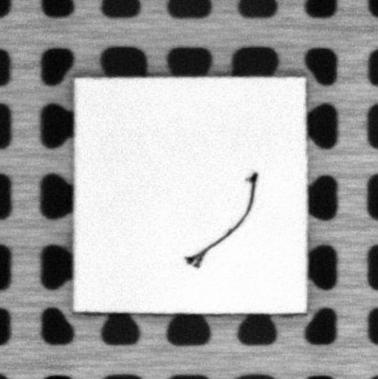DIE_INK: (182, 173, 258, 269)
